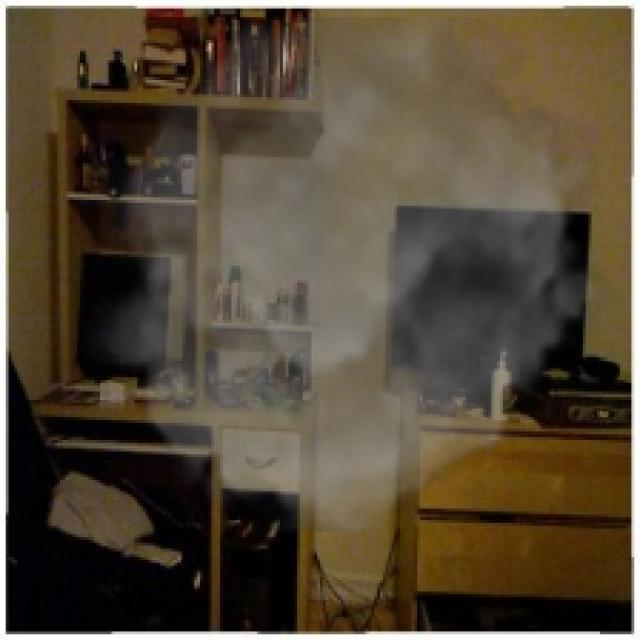Smoke: (80, 17, 620, 532)
